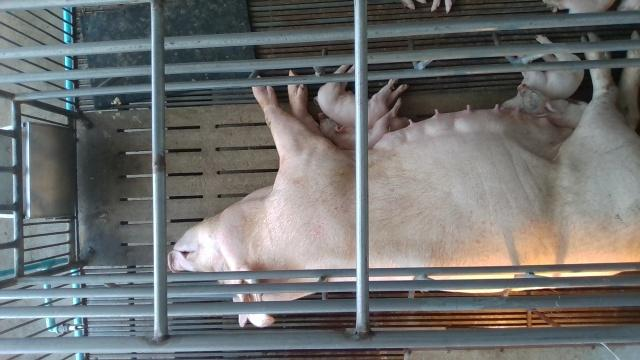piglet: (314, 65, 410, 129), (519, 40, 583, 112)
sow-sleep-lactate: (169, 36, 640, 292)
